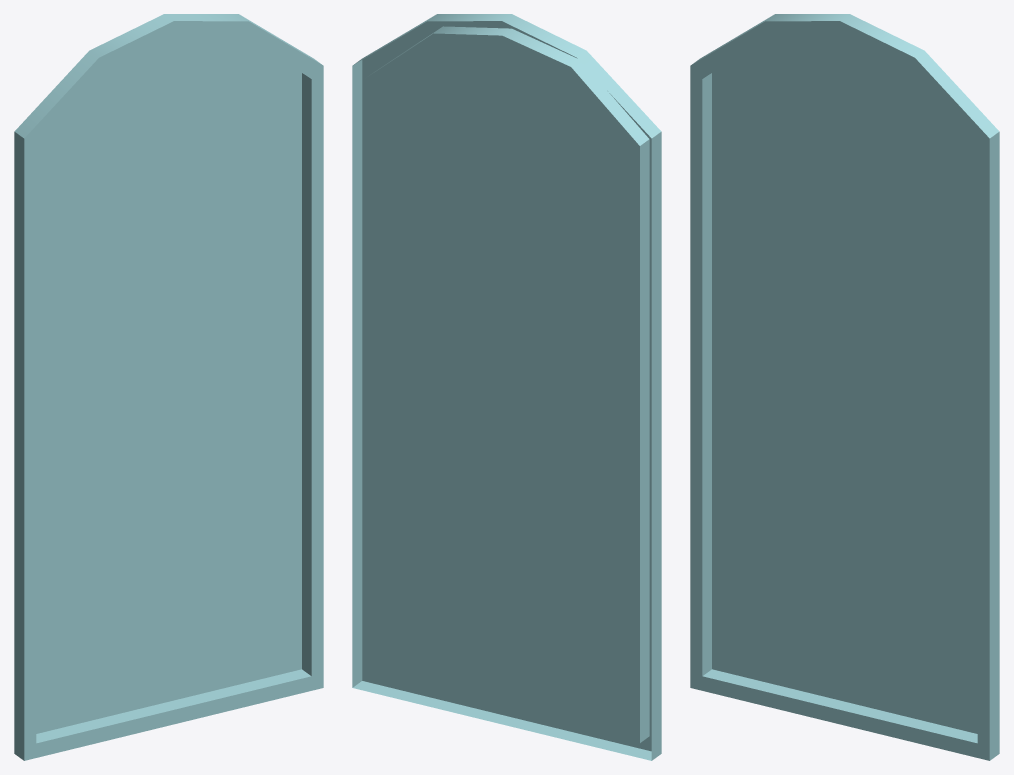
File: Friday_House_KitchenWindow.fbx
The picture shows the model from 3 angles, left to right: view 1: azimuth 30°, elevation 25°; view 2: azimuth 150°, elevation 25°; view 3: azimuth 330°, elevation 25°; orthographic projection.
Visible parts, largest first — view 1: Window; view 2: Window; view 3: Window.
Boxes of the visible parts, x1,y1,x2,y2 form: Window: [14, 14, 323, 760]; Window: [352, 14, 661, 760]; Window: [690, 14, 999, 760].
Size of the model in its own units: 105 by 235 by 5.9.
